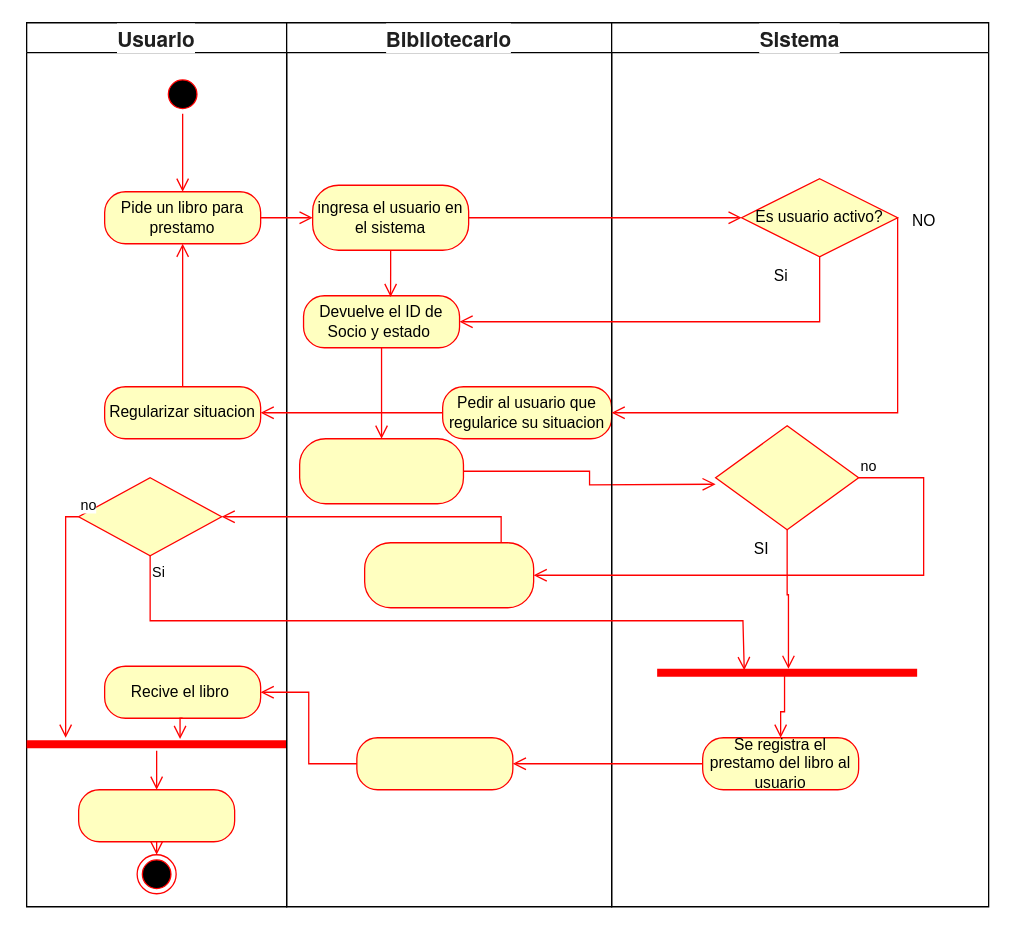
Some shapes in this 1011 by 929 pixel diagram are drawn without their labels. The shapes that lost their labels are listed below. From the top down, each one's centre as x and y in pixels, then its label:
point (380, 470): El bibbliotecario consulta el libro a prestar
point (786, 477): Hay stock del libro
point (149, 516): Recibir otro ejemplar?
point (448, 574): indicar al usuario que no hay stock y ofrecer otro ejemplar
point (434, 763): Se busca el libro y se lo entrega al usuario
point (156, 815): Retirarse
